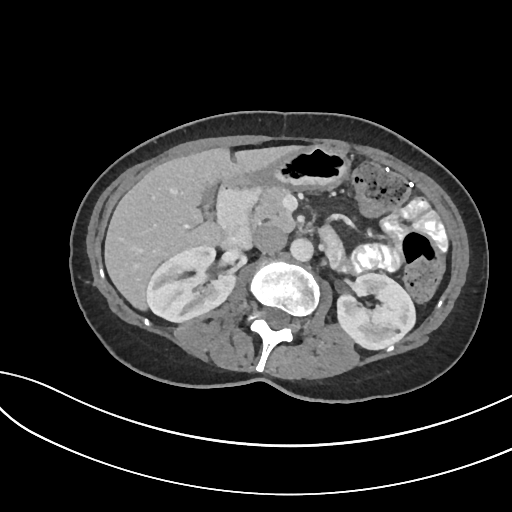Lesion: (389, 325, 405, 338)
